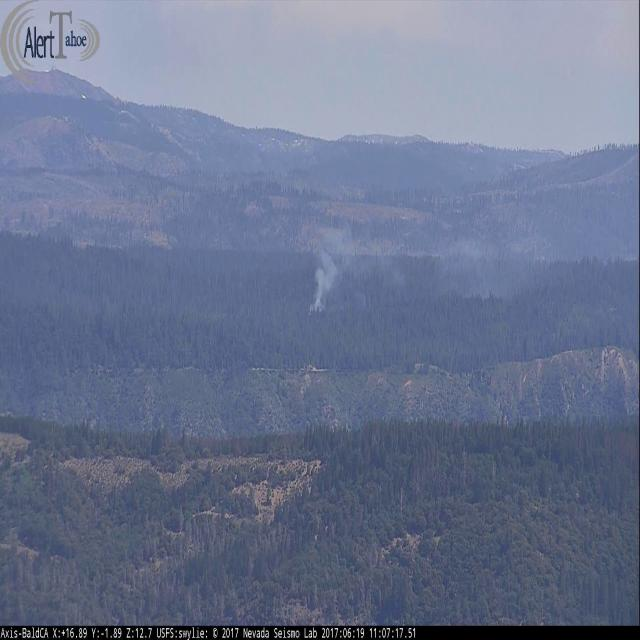smoke: (304, 213, 538, 326)
